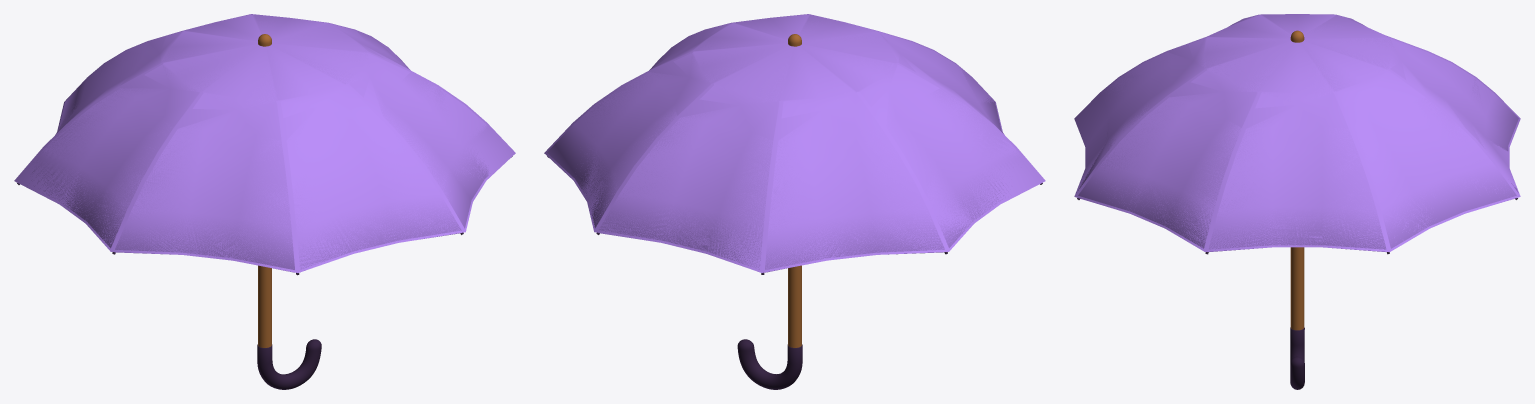
Rendered from umbrella.gltf.
3 renders of one model, left to right at view 1: azimuth 30°, elevation 25°; view 2: azimuth 150°, elevation 25°; view 3: azimuth 270°, elevation 25°, orthographic. The views are drawn at different scales.
Visible parts, largest first — view 1: Sphere, Sphere.001, Torus.001, Torus; view 2: Sphere, Sphere.001, Torus.001, Torus; view 3: Sphere, Sphere.001, Torus, Torus.001.
Boxes of the visible parts, x1,y1,x2,y2 form: Sphere: [31, 14, 488, 272]; Sphere.001: [14, 14, 515, 272]; Torus.001: [257, 339, 321, 389]; Torus: [258, 34, 271, 347]; Sphere: [547, 14, 1023, 272]; Sphere.001: [544, 14, 1045, 272]; Torus.001: [737, 339, 802, 389]; Torus: [788, 34, 801, 347]; Sphere: [1076, 14, 1518, 251]; Sphere.001: [1074, 14, 1520, 251]; Torus: [1290, 30, 1304, 330]; Torus.001: [1290, 327, 1304, 389].
Size of the model in its own units: 33.49 by 28.44 by 33.49.
